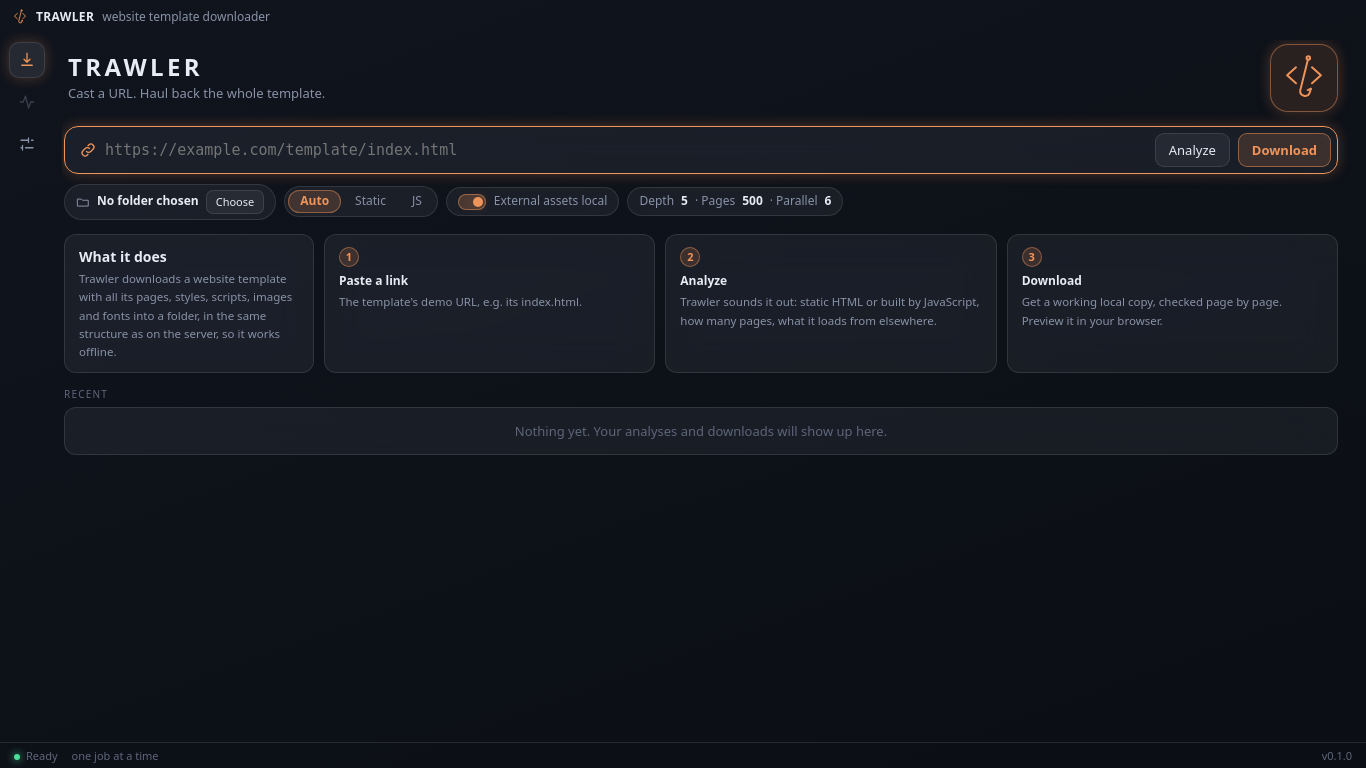
Test: Progress screen › shows a failure with its message
Later steps or results of the test are not shown.
Type "example.com/template/" into the field named "Template URL".
click(626, 150); type("example.com/template/")  # box [105,133,1147,167]
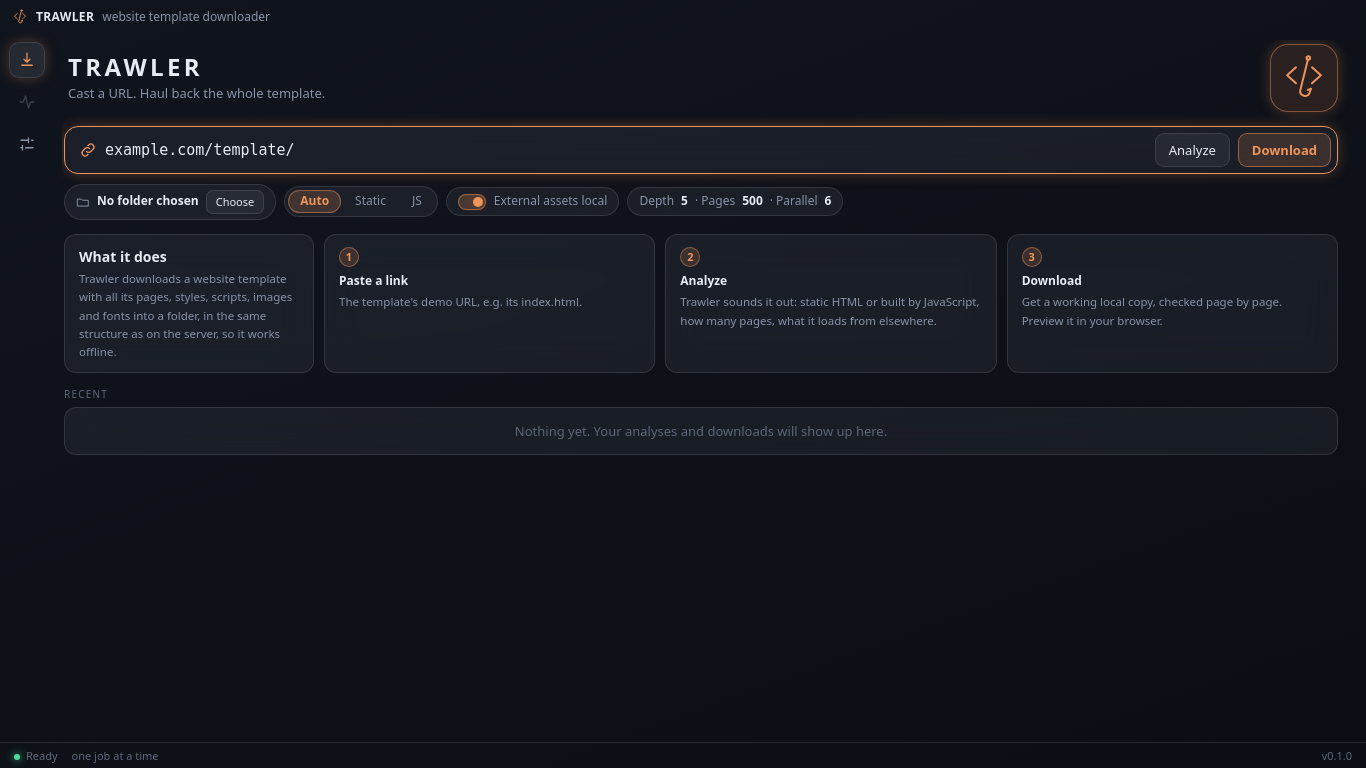
Click the button "Analyze".
click(1192, 150)  # box [1155,133,1230,167]
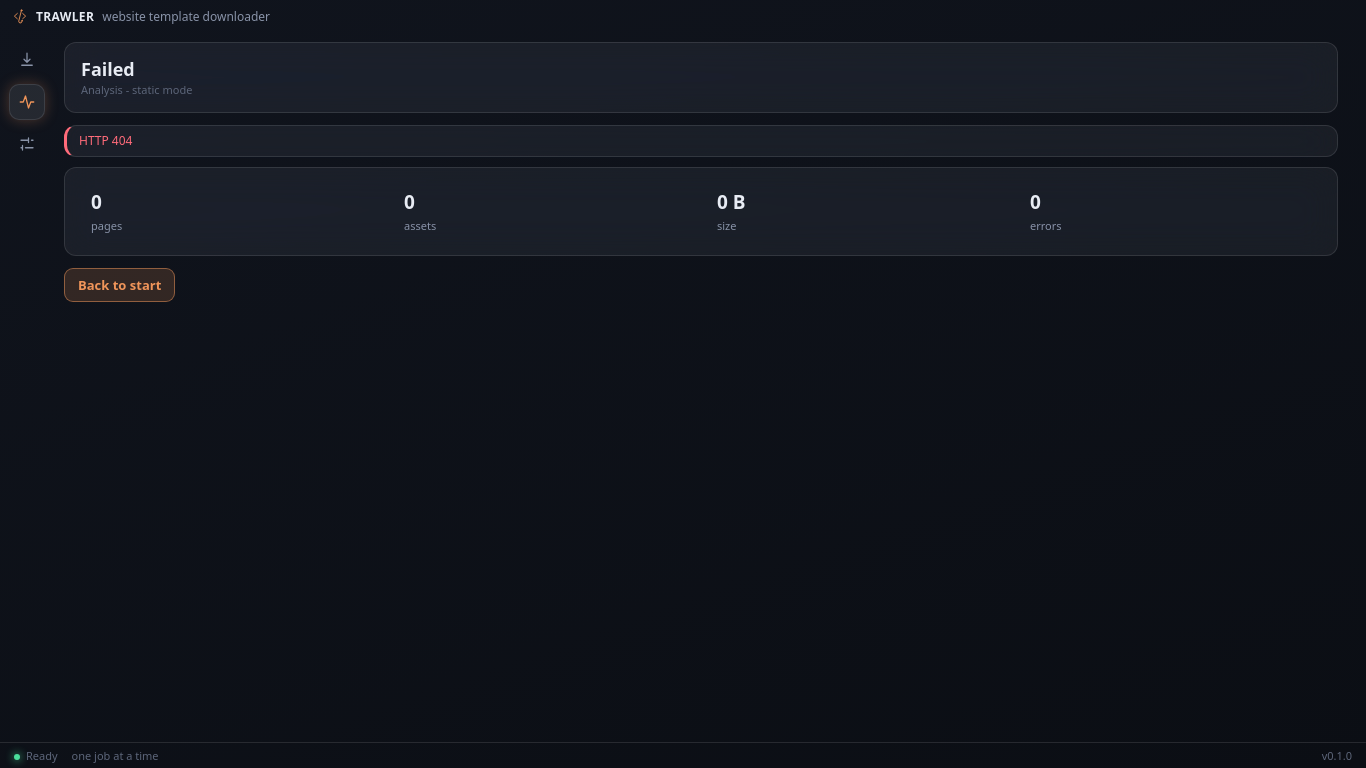
expect the heading "Failed" is shown: met, box [81,57,135,81]
expect the text "HTTP 404" is shown: met, box [64,125,1338,157]
